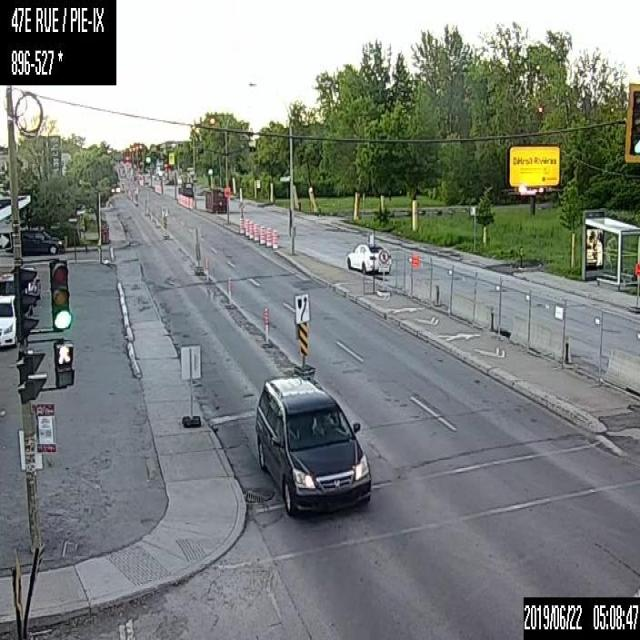construction: (263, 308, 268, 344), (265, 226, 271, 246), (259, 224, 265, 243), (205, 256, 209, 284), (227, 276, 231, 304), (238, 215, 244, 233), (253, 223, 259, 241), (272, 229, 277, 249), (248, 220, 253, 238), (244, 218, 249, 235)
vehicle: (253, 371, 372, 517), (344, 241, 392, 276), (0, 271, 33, 317), (21, 228, 64, 255), (0, 292, 17, 347), (20, 261, 40, 304)
